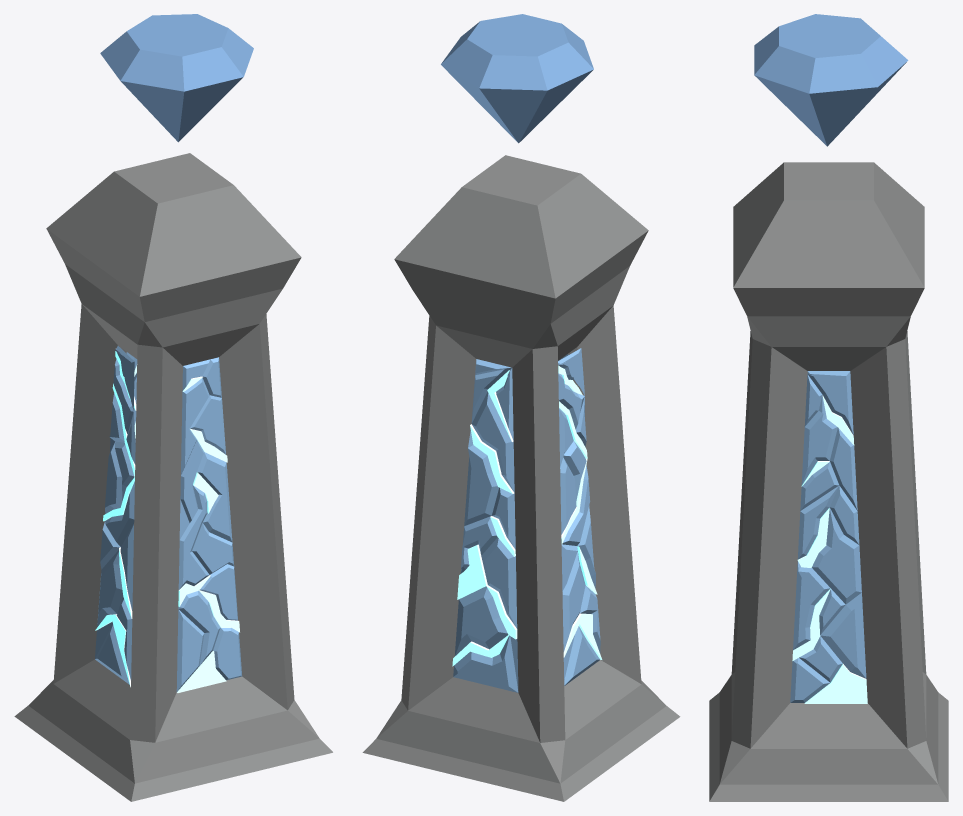
Rendered from BLUESUBTLEGLOW.fbx.
The picture shows the model from 3 angles, left to right: view 1: azimuth 30°, elevation 25°; view 2: azimuth 150°, elevation 25°; view 3: azimuth 270°, elevation 25°; orthographic projection. The views are drawn at different scales.
Visible parts, largest first — view 1: Plane.002, Plane.003, Cone, Plane.004; view 2: Plane.002, Plane.003, Cone, Plane.004; view 3: Plane.002, Plane.003, Cone, Plane.004.
Boxes of the visible parts, x1=… form: Plane.002: x1=14, y1=153, x2=332, y2=801; Plane.003: x1=95, y1=346, x2=242, y2=691; Cone: x1=100, y1=14, x2=253, y2=142; Plane.004: x1=95, y1=351, x2=239, y2=692; Plane.002: x1=362, y1=155, x2=680, y2=801; Plane.003: x1=453, y1=348, x2=600, y2=692; Cone: x1=441, y1=14, x2=593, y2=143; Plane.004: x1=452, y1=365, x2=602, y2=666; Plane.002: x1=709, y1=162, x2=948, y2=801; Plane.003: x1=790, y1=371, x2=866, y2=702; Cone: x1=754, y1=14, x2=908, y2=146; Plane.004: x1=792, y1=395, x2=867, y2=703.
Bounding box in the file's own units: 157 × 520 × 157.
